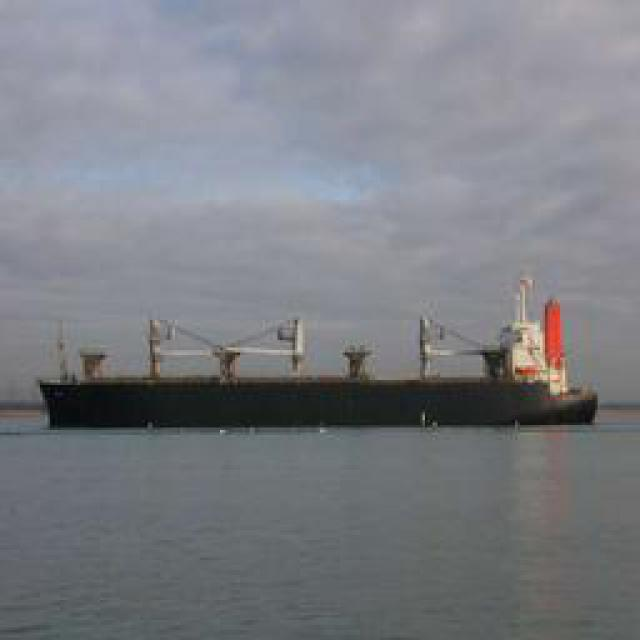Ship: (36, 319, 616, 434)
